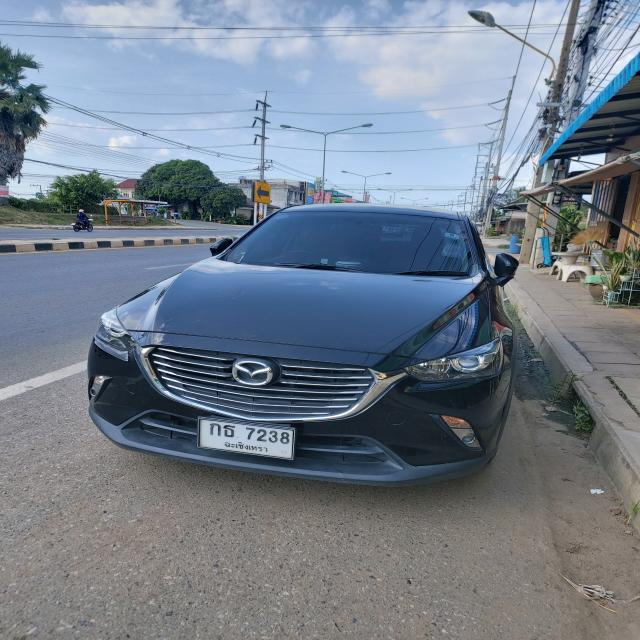license_plate: (199, 418, 294, 460)
